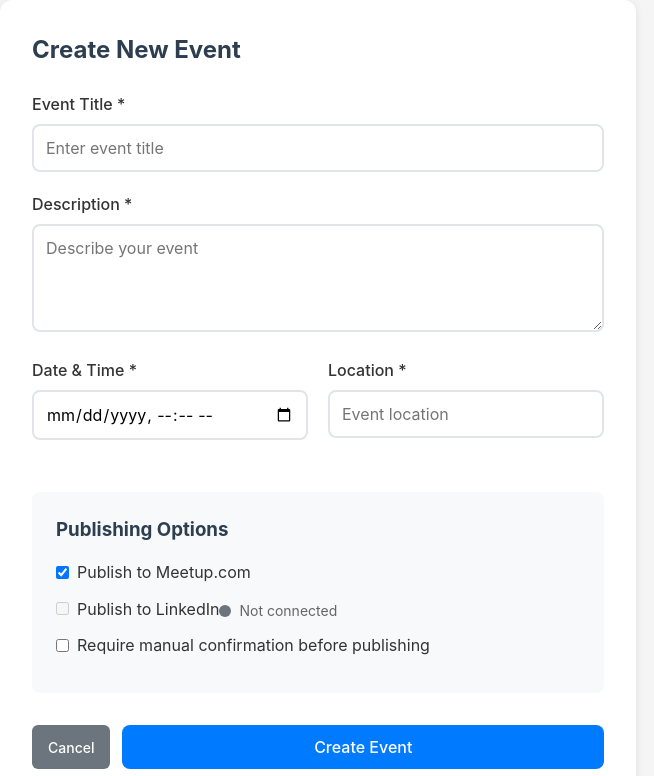
Test: EventForm Component › clears validation errors when user starts typing
This screenshot has width=654, height=776.
# Trigger validation errors
Click the button "Create Event" at (363, 747), box [122,725,604,769]
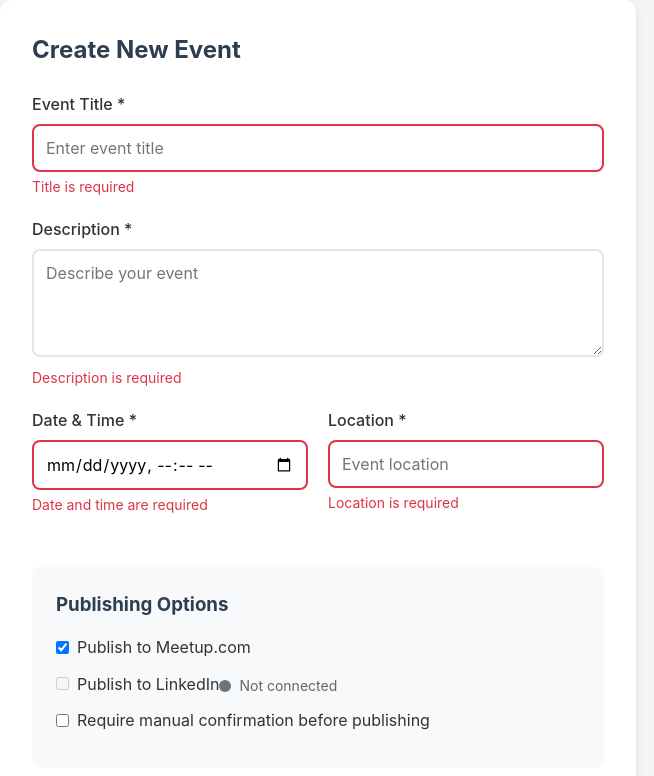
Now the text "Title is required" is shown, box [32,178,134,195]
# Start typing in title field
Type "T" into the field labelled "Event Title *" at (318, 148), box [32,124,604,172]
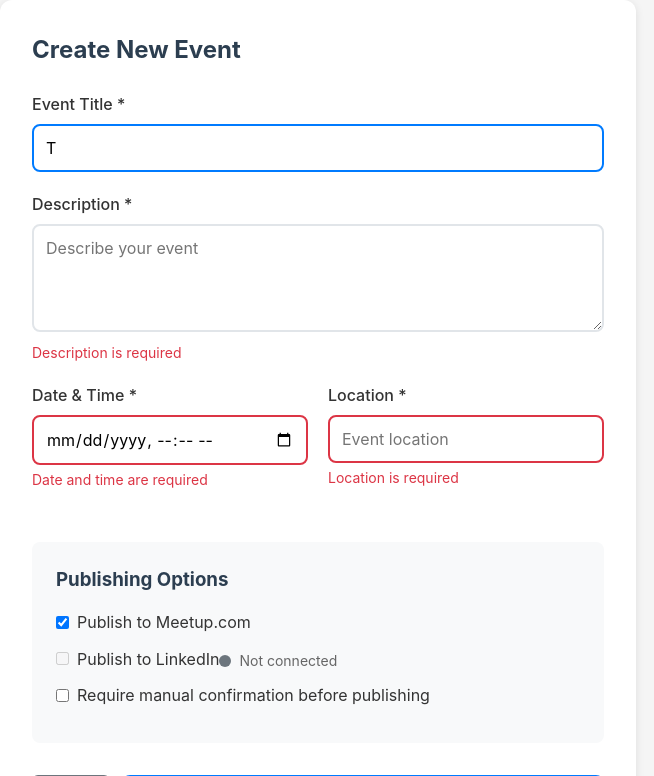
Now the text "Title is required" is gone
